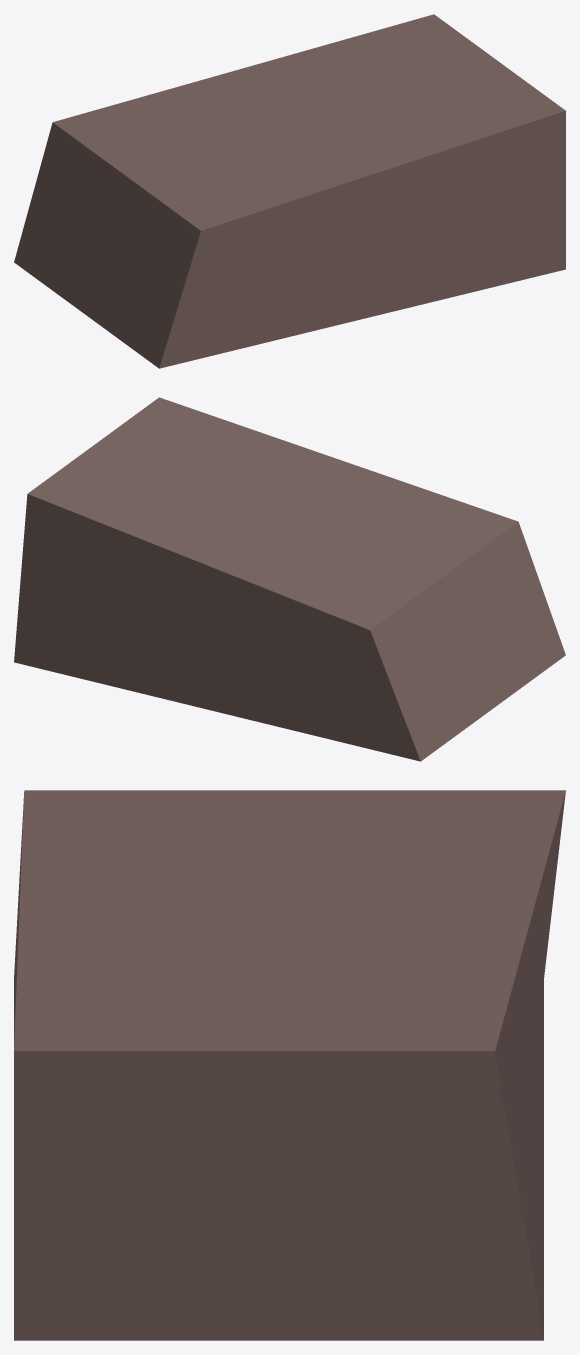
The model's file is rock5_wall_decoration.fbx.
3 renders of one model, top to bottom at view 1: azimuth 30°, elevation 25°; view 2: azimuth 150°, elevation 25°; view 3: azimuth 270°, elevation 25°, orthographic. The views are drawn at different scales.
Parts seen in each view (by area): view 1: rock5_wall_decoration; view 2: rock5_wall_decoration; view 3: rock5_wall_decoration.
Part boxes in pixels (<box>): rock5_wall_decoration: <box>14,14,565,368</box>; rock5_wall_decoration: <box>14,397,565,761</box>; rock5_wall_decoration: <box>14,790,565,1340</box>.
Size of the model in its own units: 526 by 196 by 339.
